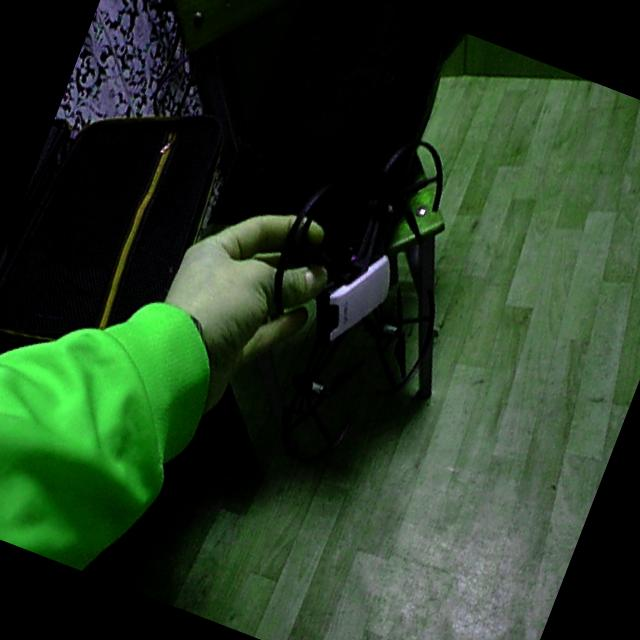drone: (193, 97, 506, 510)
